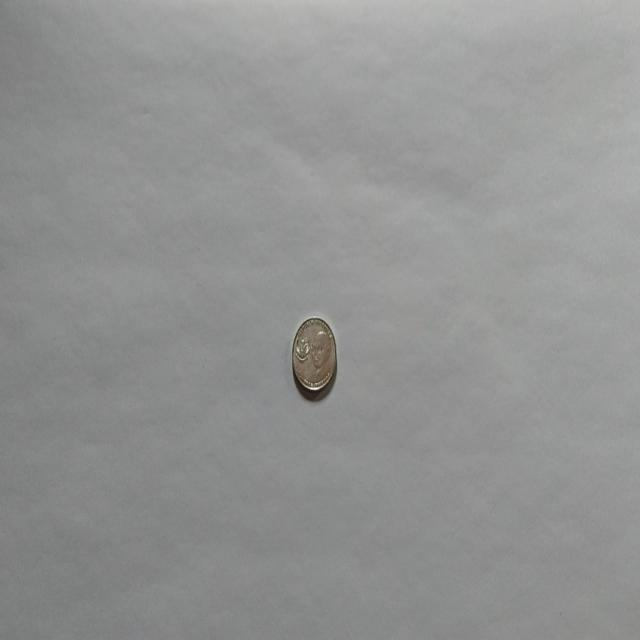lima ratus rupiah: (290, 314, 338, 394)
